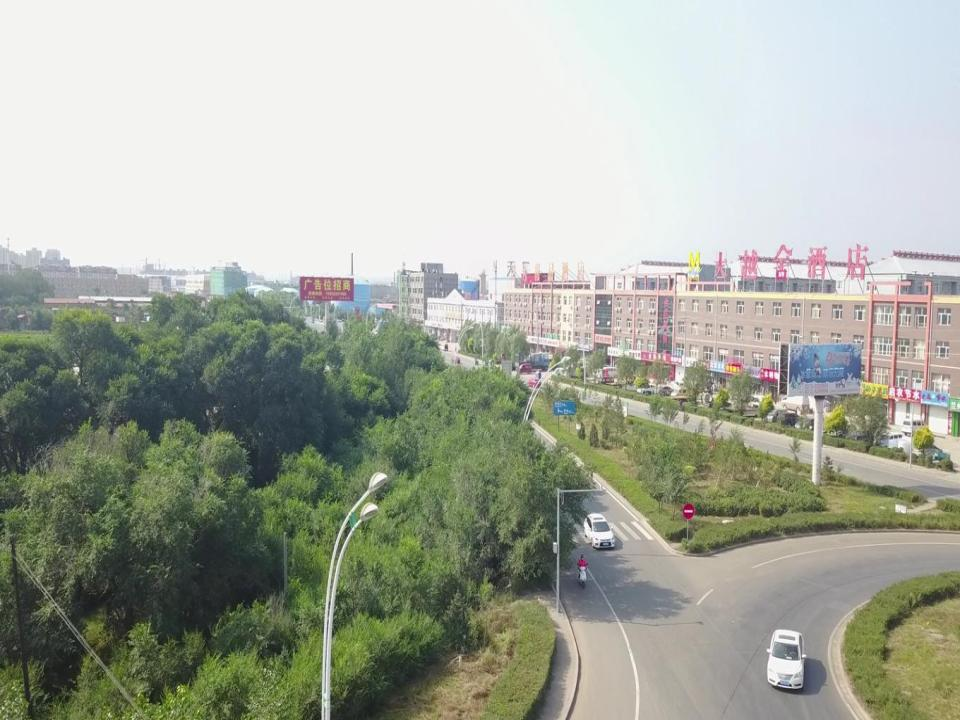car: (766, 629, 806, 690), (911, 442, 943, 461), (826, 422, 857, 438), (845, 429, 874, 445), (775, 413, 804, 428), (794, 415, 818, 430), (651, 386, 676, 396)
truck: (515, 353, 549, 371)
van: (583, 512, 615, 549), (782, 390, 809, 413), (876, 432, 903, 450), (900, 418, 927, 436), (765, 408, 788, 423), (670, 386, 692, 398), (636, 383, 655, 395), (602, 366, 618, 378), (518, 362, 532, 374), (598, 376, 614, 386)
